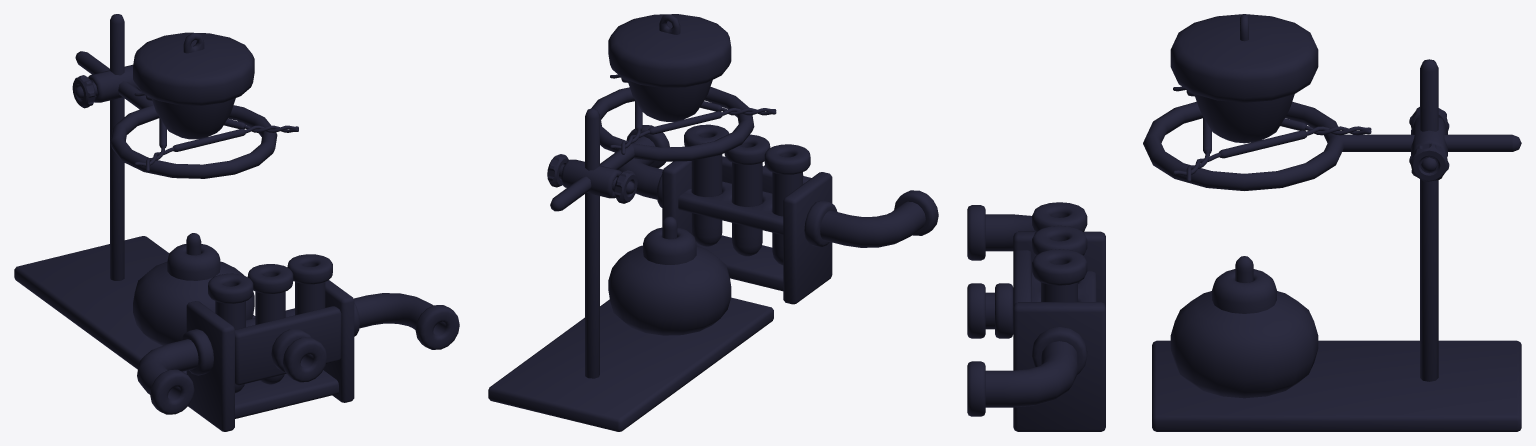
Rendered from Constructing_Smelter.fbx.
The picture shows the model from 3 angles, left to right: view 1: azimuth 30°, elevation 25°; view 2: azimuth 150°, elevation 25°; view 3: azimuth 270°, elevation 25°; orthographic projection. The views are drawn at different scales.
Parts seen in each view (by area): view 1: Stand_Base001; view 2: Stand_Base001; view 3: Stand_Base001.
Part boxes in pixels (x1=…): Stand_Base001: x1=14, y1=14, x2=459, y2=431; Stand_Base001: x1=488, y1=14, x2=938, y2=431; Stand_Base001: x1=967, y1=14, x2=1521, y2=431.
Bounding box in the file's own units: 230 × 227 × 300.
